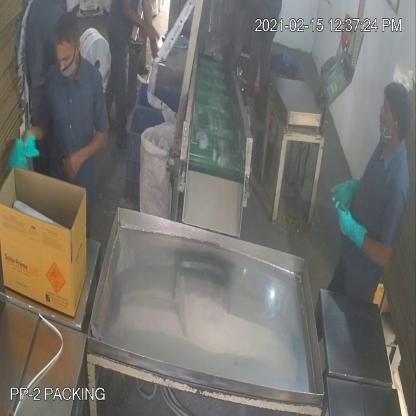glove: (336, 197, 372, 264)
no_glove: (62, 121, 113, 176), (119, 2, 161, 43)
